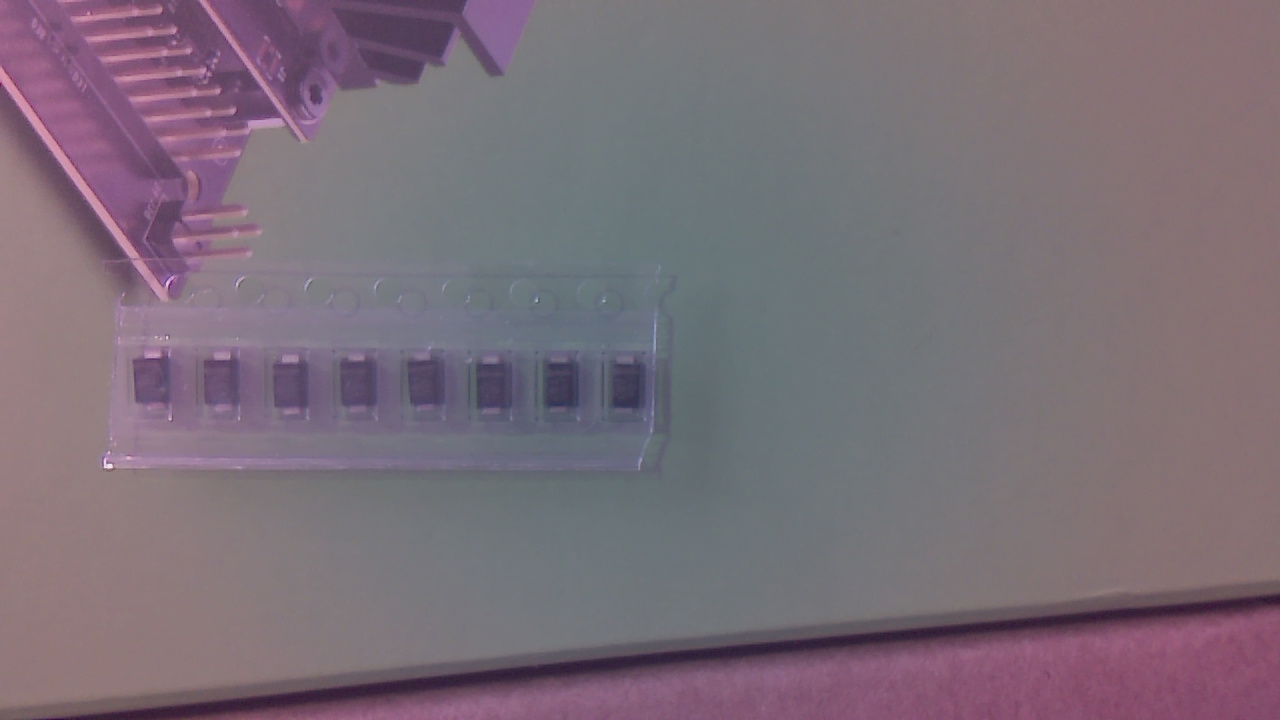Diode: (203, 354, 246, 421), (139, 350, 179, 421), (410, 353, 448, 422), (613, 357, 652, 424), (344, 355, 382, 423), (278, 358, 313, 423), (480, 357, 515, 422), (548, 360, 584, 423)
